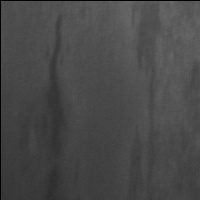inclusion: (126, 2, 162, 200), (33, 13, 69, 200), (172, 55, 200, 166)
